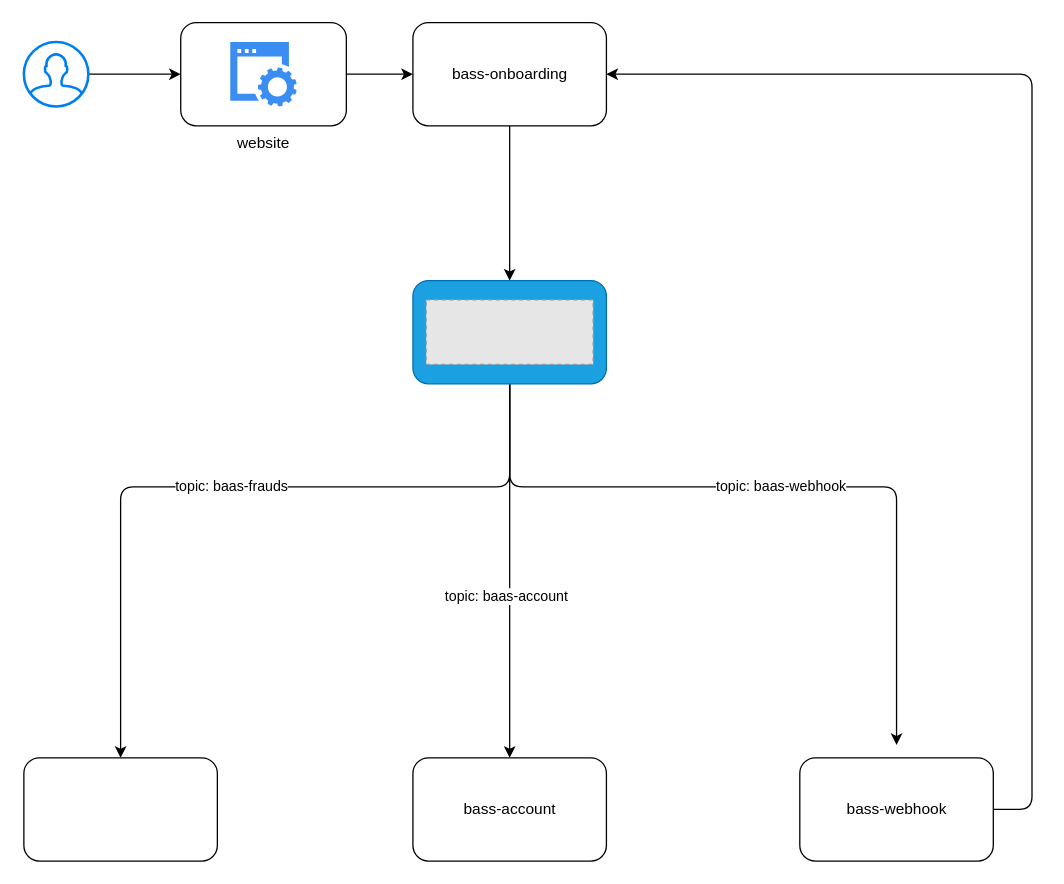
This 1064x884 diagram has some shape labels left out. Grey dashed boxes stand in for pictures. Each missing label, with the centre of its shape:
"bass-frauds" goes at pixel 120 809.
"user" goes at pixel 55 73.
